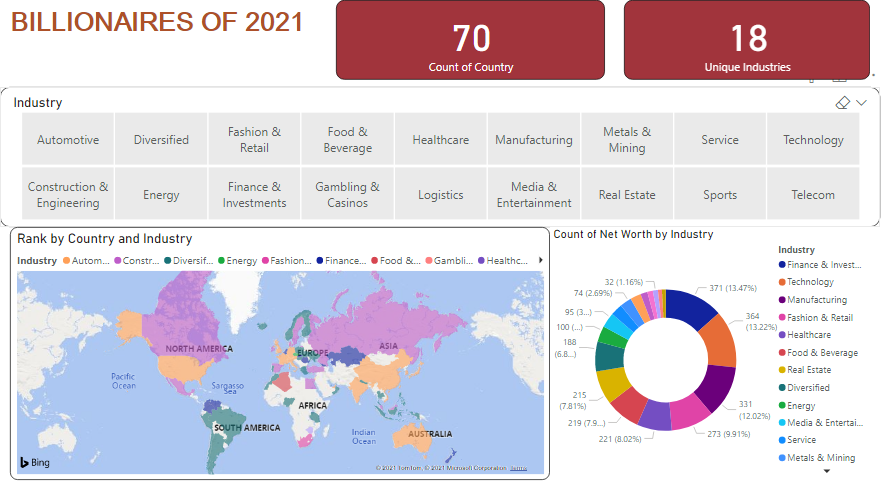

The dashboard page shown, as its layout file describes it:
{"tool":"powerbi","page":{"name":"Page 2","canvas":[1280,720],"ordinal":1},"visuals":[{"type":"textbox","box":[10.1,0,451.6,92.3],"z":0},{"type":"slicer","fields":{"Values":["Billionaire.Industry"]},"box":[0,125.5,1269.7,202],"z":1000},{"type":"filledMap","fields":{"Category":["Billionaire.Country"],"Series":["Billionaire.Industry"]},"box":[14.4,327.5,779.2,365.1],"z":2000},{"type":"card","fields":{"Values":["Count(Billionaire.Country)"]},"box":[484.8,0,388.1,115.4],"z":3000},{"type":"card","fields":{"Values":["Count(Billionaire.Industry)"]},"box":[900.4,0,354.9,115.4],"z":5000},{"type":"donutChart","fields":{"Series":["Billionaire.Industry"],"Y":["CountNonNull(Billionaire.Net Worth)"]},"box":[793.6,327.5,473.3,365.1],"z":6000}]}

Visuals, with their boxes in screenshot pixels (x1, y1, x2, y2), scaled from the page's 1280x720 canvas onto the 887x499 screenshot:
textbox: <bbox>7, 0, 320, 64</bbox>
slicer - Billionaire.Industry: <bbox>0, 87, 880, 227</bbox>
filledMap - Billionaire.Country x Billionaire.Industry: <bbox>10, 227, 550, 480</bbox>
card - Count(Billionaire.Country): <bbox>336, 0, 605, 80</bbox>
card - Count(Billionaire.Industry): <bbox>624, 0, 870, 80</bbox>
donutChart - Billionaire.Industry x CountNonNull(Billionaire.Net Worth): <bbox>550, 227, 878, 480</bbox>
